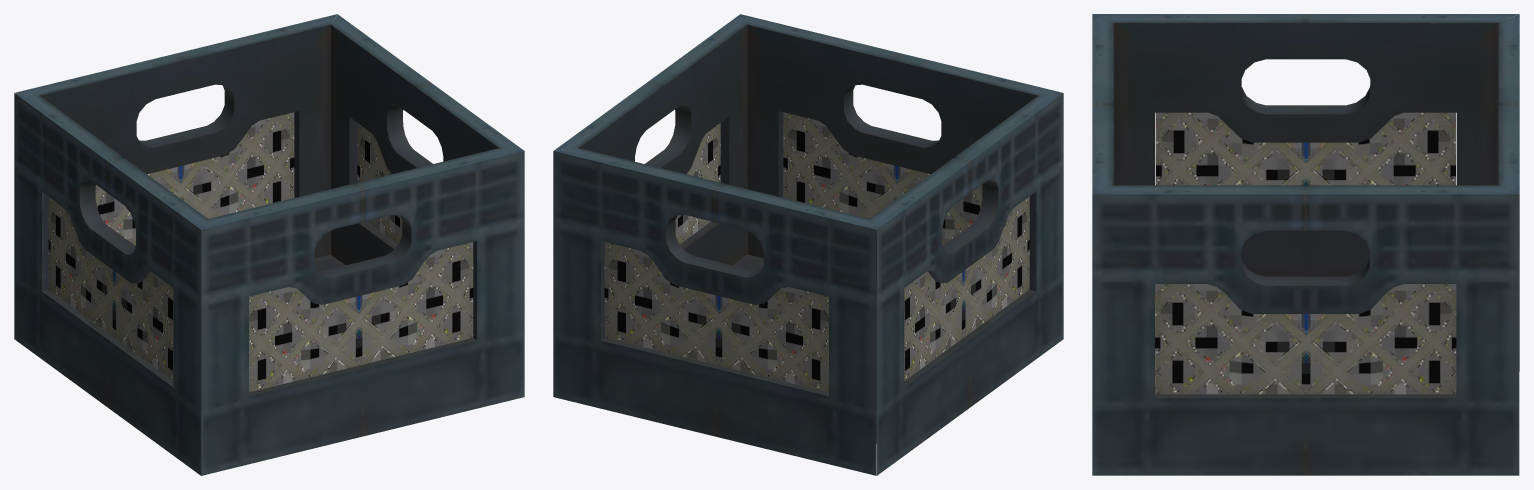
File: cupboard.tool.retro.box.glb
The picture shows the model from 3 angles, left to right: view 1: azimuth 30°, elevation 25°; view 2: azimuth 150°, elevation 25°; view 3: azimuth 270°, elevation 25°; orthographic projection. The views are drawn at different scales.
Visible parts, largest first — view 1: vinyl_crate_small_LOD0; view 2: vinyl_crate_small_LOD0; view 3: vinyl_crate_small_LOD0.
Part boxes in pixels (x1,y1,x2,y2): vinyl_crate_small_LOD0: (14,14,524,475); vinyl_crate_small_LOD0: (553,14,1063,475); vinyl_crate_small_LOD0: (1092,14,1519,475).
Size of the model in its own units: 0.2978 by 0.2162 by 0.2978.
2 materials, 2 textured.
